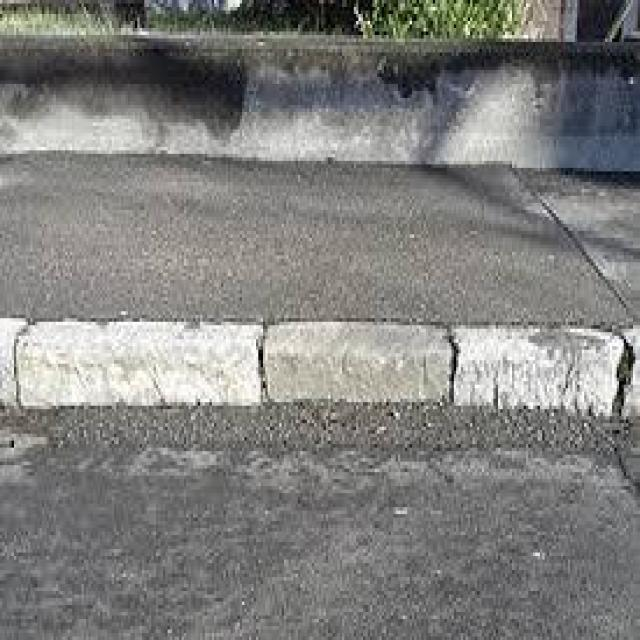curb: (1, 309, 640, 445)
